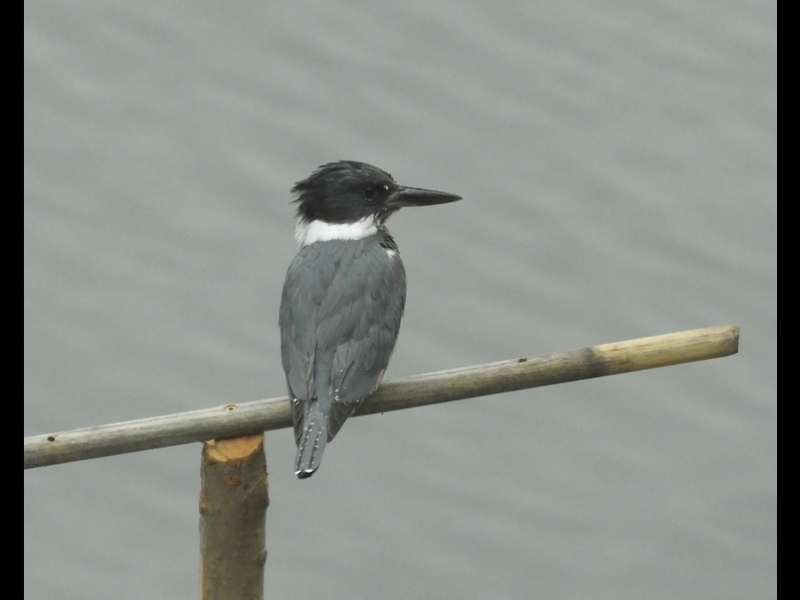kingfisher: (276, 158, 469, 481)
